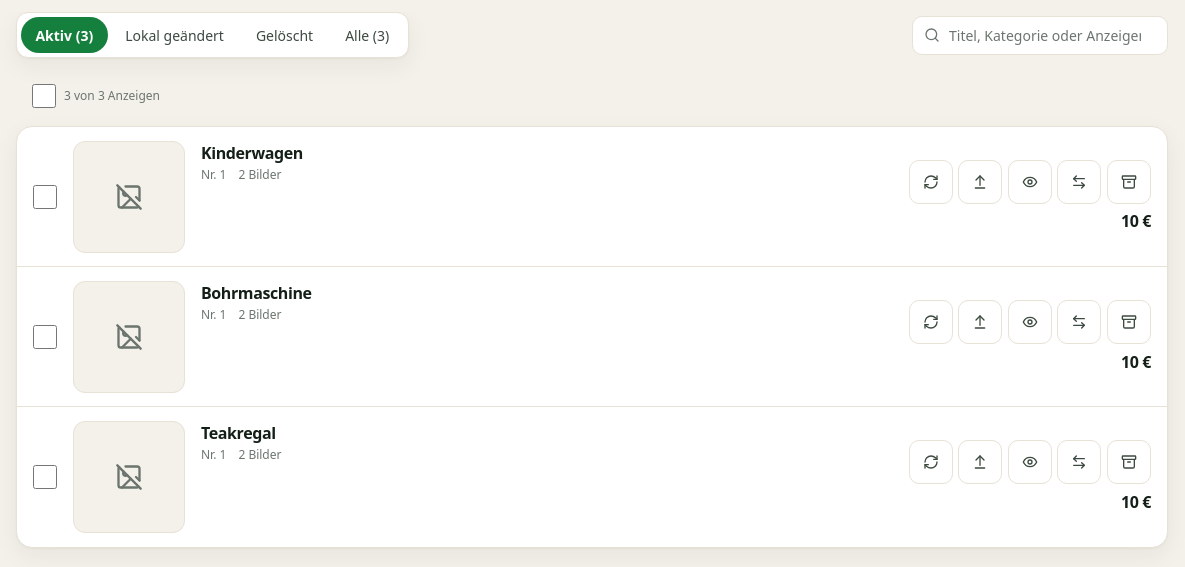
Test: Mehrfachauswahl › wählt nur, was der Filter übrig lässt
Expected: the text "Kinderwagen" is shown, [201,142,303,164]
Type "Bohr" into the search field with placeholder "Titel, Kategorie oder Anzeigennummer" at [1040, 35], box [912,16,1168,54]
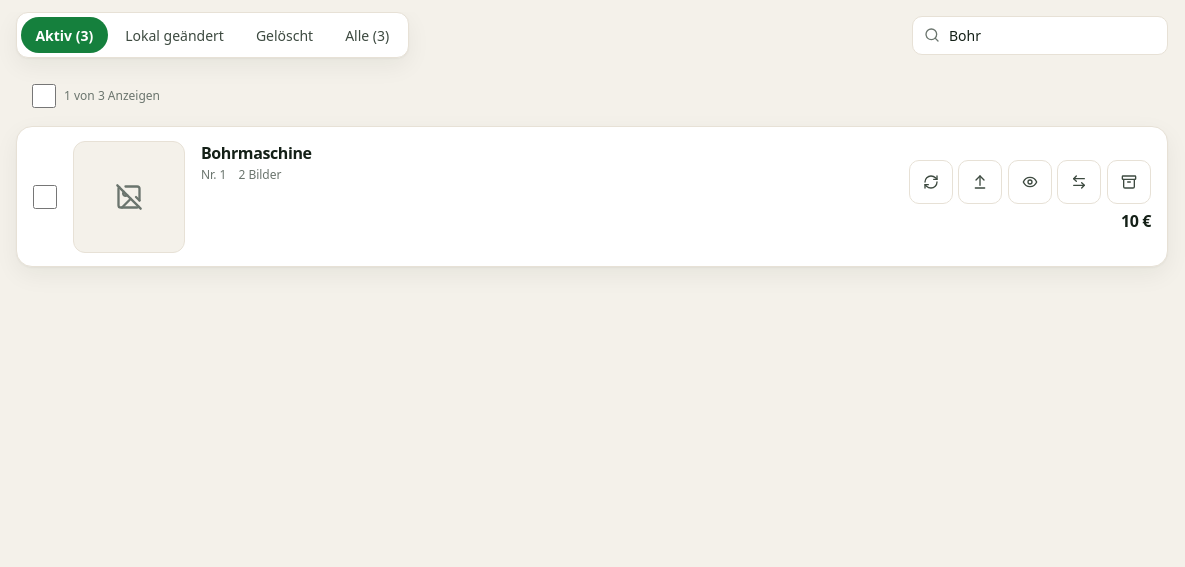
Click the checkbox named "Alle sichtbaren auswählen" at [44, 96], box [32,84,56,108]
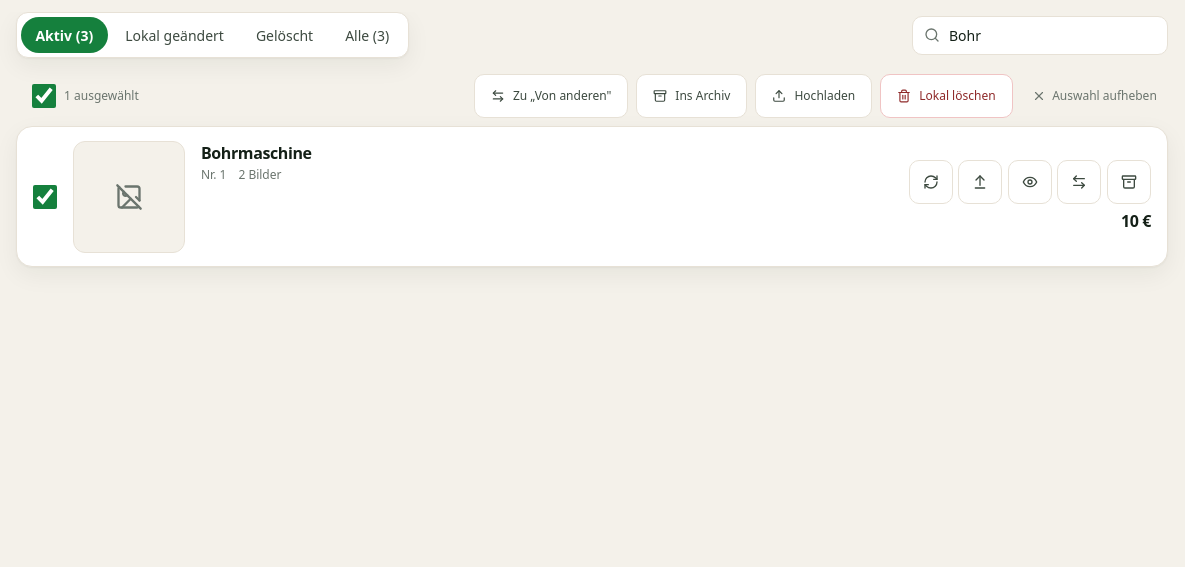
Result: the text "1 ausgewählt" is shown at [16,84,139,108]
